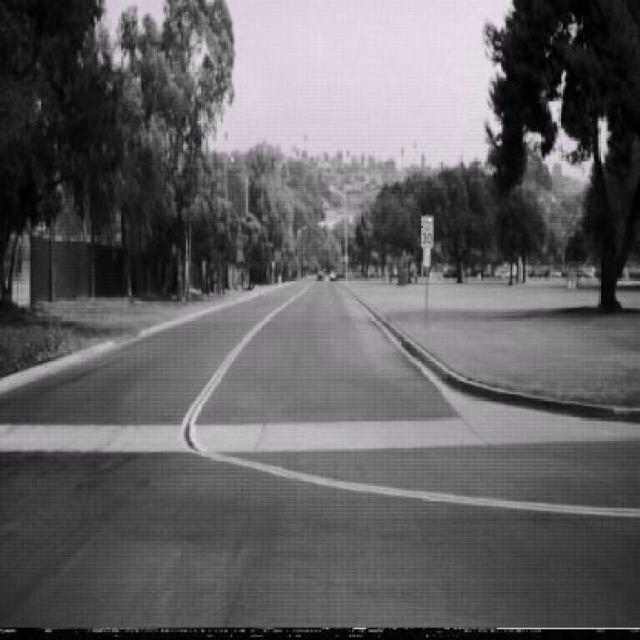speedLimit30: (420, 214, 434, 247)
